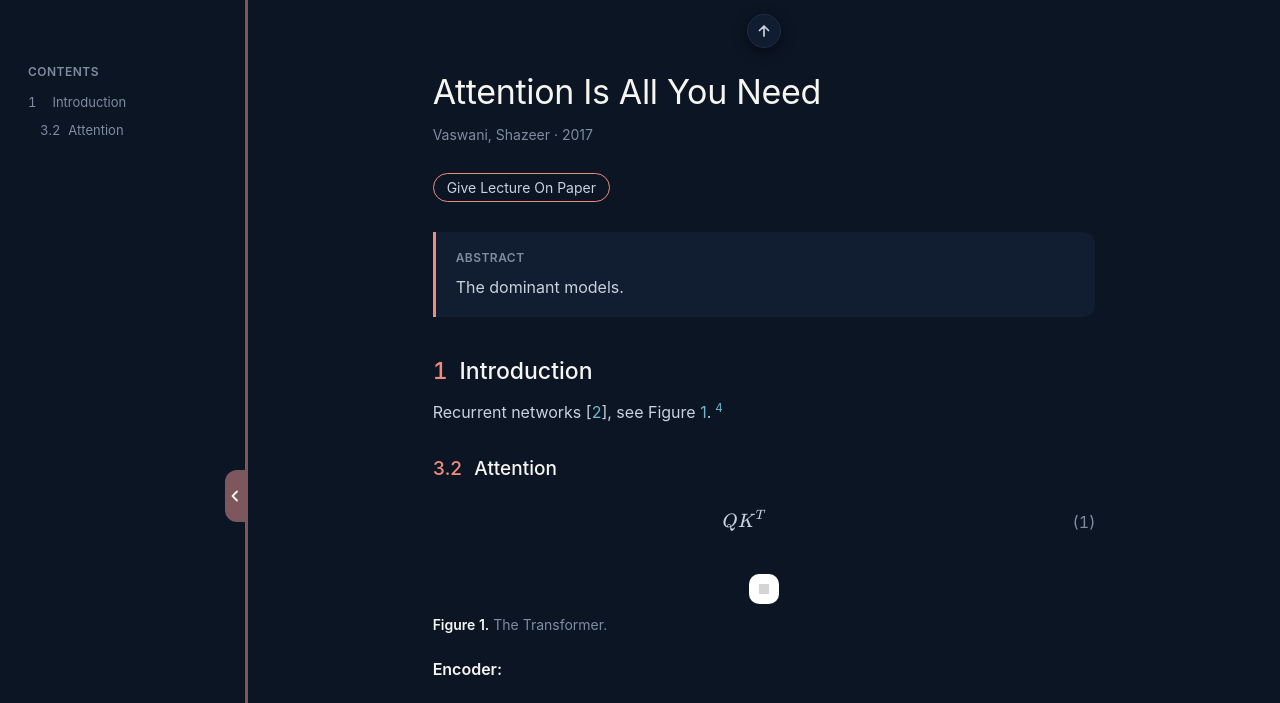
it: opens a footnote in place
Expected: the text "Dot products get large." is not shown
Click the button "4".
click(719, 409)  # box [712, 403, 726, 414]
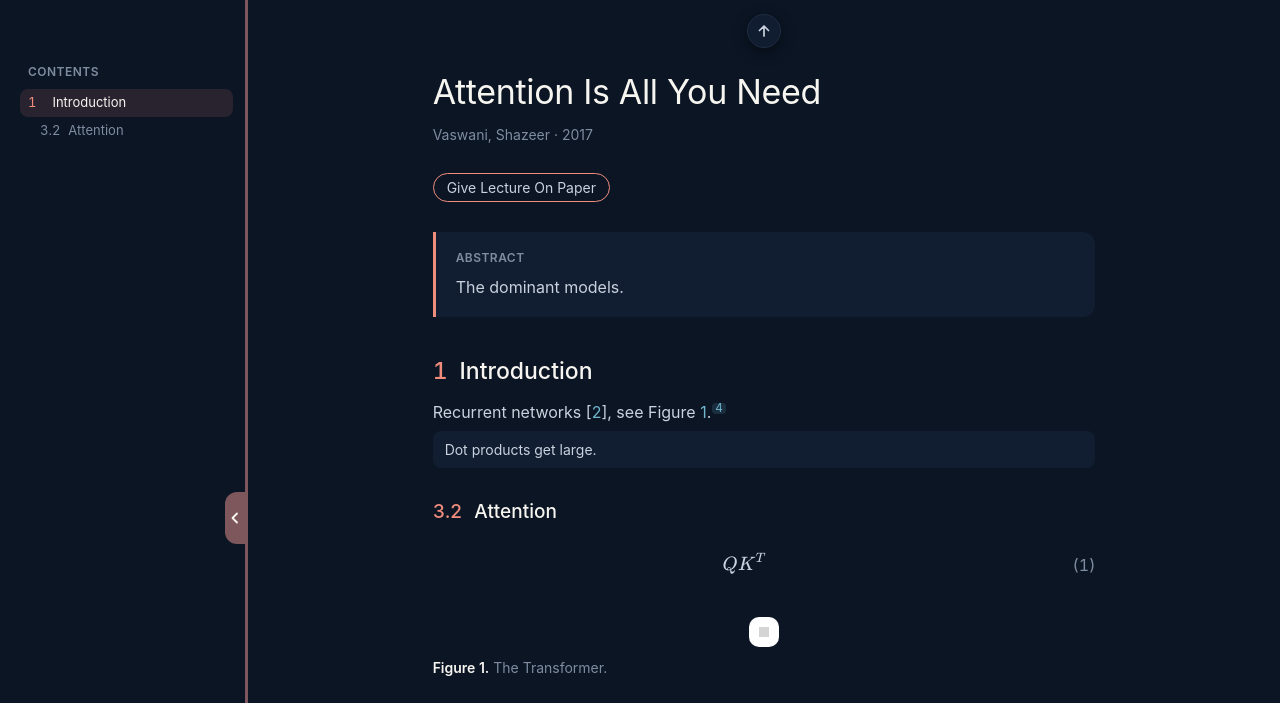
Expected: the text "Dot products get large." is shown, [433, 431, 1095, 468]
Expected: the button "4" is expanded, [712, 403, 726, 414]
